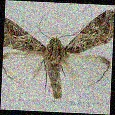Spodoptera litura: (3, 6, 112, 99)
